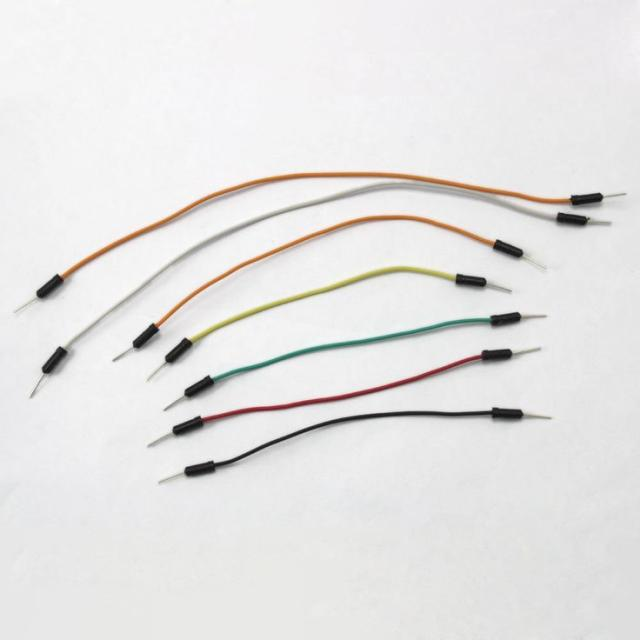Jumper Wires: (5, 147, 640, 504)
